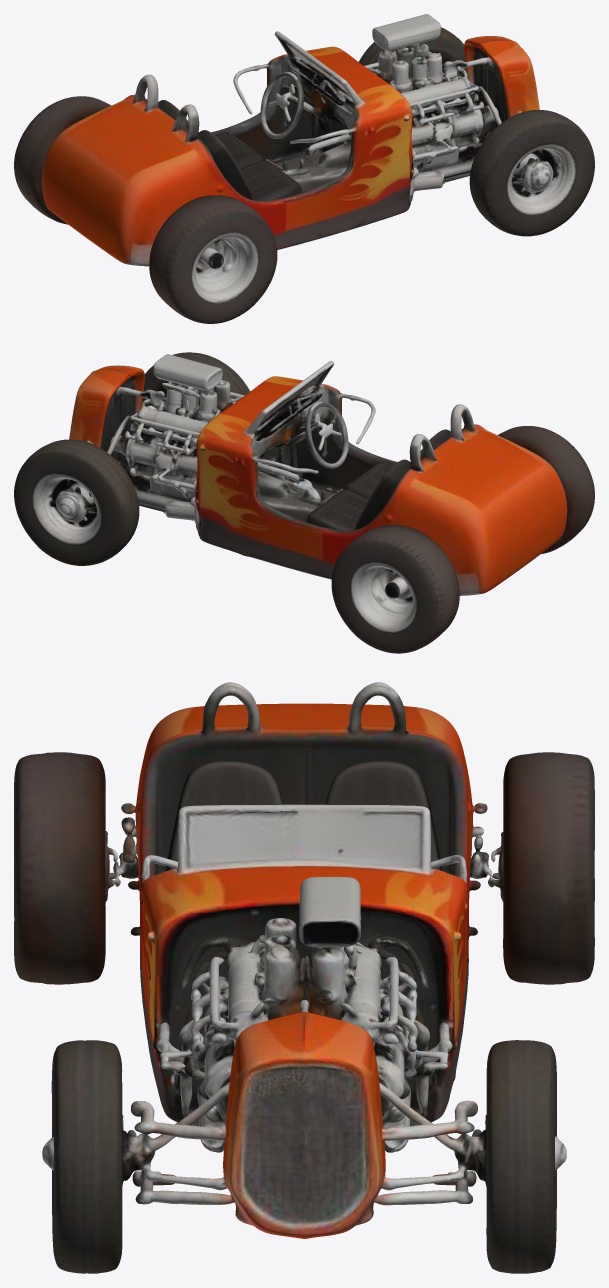
The model's file is car_rumble.glb.
The picture shows the model from 3 angles, top to bottom: view 1: azimuth 30°, elevation 25°; view 2: azimuth 150°, elevation 25°; view 3: azimuth 270°, elevation 25°; orthographic projection. The views are drawn at different scales.
Visible parts, largest first — view 1: tripo_node_e46265c8-f5f6-4e01-9894-cb1b19b8c019; view 2: tripo_node_e46265c8-f5f6-4e01-9894-cb1b19b8c019; view 3: tripo_node_e46265c8-f5f6-4e01-9894-cb1b19b8c019.
Boxes of the visible parts, x1,y1,x2,y2 form: tripo_node_e46265c8-f5f6-4e01-9894-cb1b19b8c019: (14,14,594,323); tripo_node_e46265c8-f5f6-4e01-9894-cb1b19b8c019: (14,352,594,653); tripo_node_e46265c8-f5f6-4e01-9894-cb1b19b8c019: (14,682,594,1273).
Size of the model in its own units: 1 by 0.3669 by 0.6157.
1 material, 1 textured.
